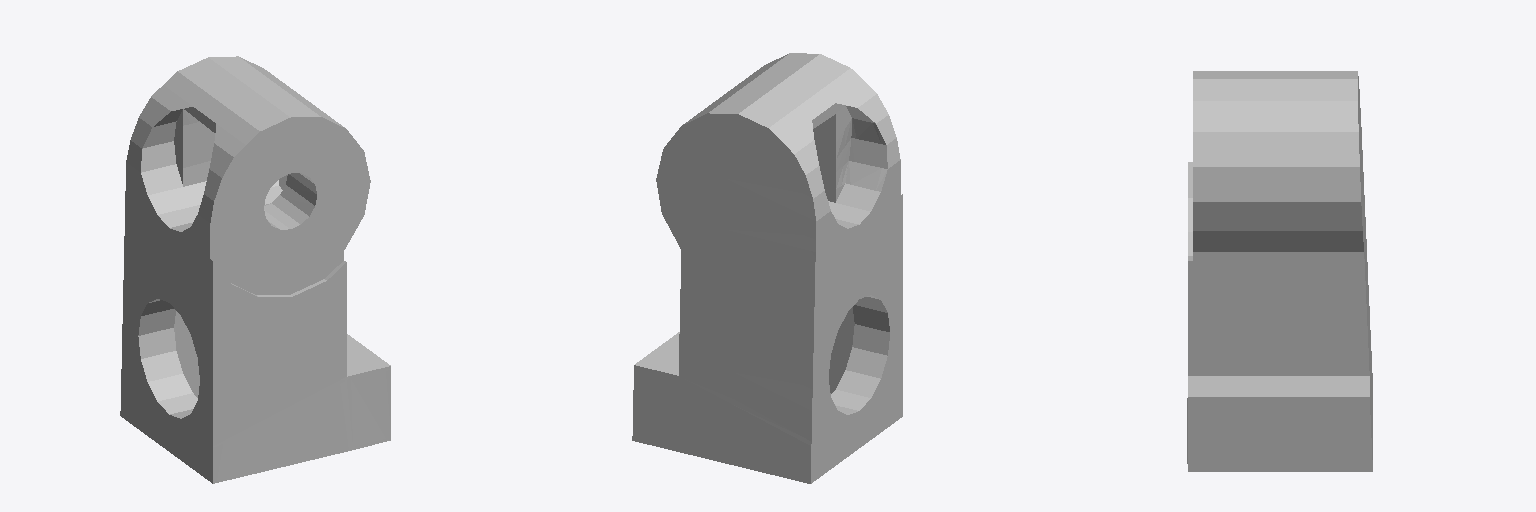
The model's file is lPie.obj.
3 renders of one model, left to right at view 1: azimuth 30°, elevation 25°; view 2: azimuth 150°, elevation 25°; view 3: azimuth 270°, elevation 25°, orthographic.
Parts seen in each view (by area): view 1: lPie4:pasted__pasted__lleg13pasted__pasted__legocharacter2pasted; view 2: lPie4:pasted__pasted__lleg13pasted__pasted__legocharacter2pasted; view 3: lPie4:pasted__pasted__lleg13pasted__pasted__legocharacter2pasted.
Part boxes in pixels (x1,y1,x2,y2): lPie4:pasted__pasted__lleg13pasted__pasted__legocharacter2pasted: (120,56,390,483); lPie4:pasted__pasted__lleg13pasted__pasted__legocharacter2pasted: (632,53,902,483); lPie4:pasted__pasted__lleg13pasted__pasted__legocharacter2pasted: (1187,71,1372,471).
Size of the model in its own units: 0.7995 by 1.48 by 0.7228.